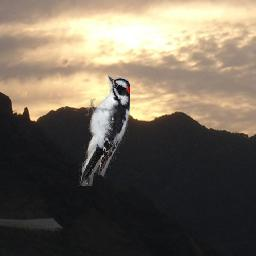Woodpecker: (80, 74, 131, 186)
